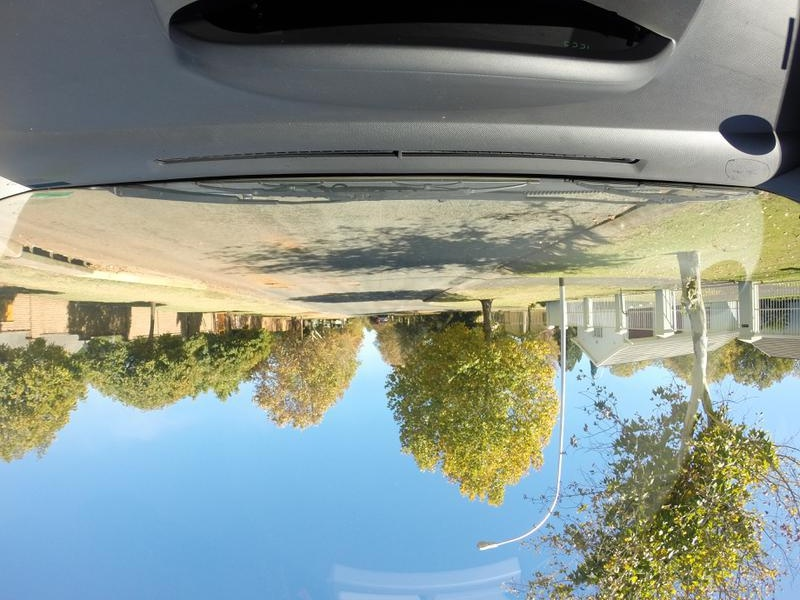pothole: (260, 280, 277, 288)
